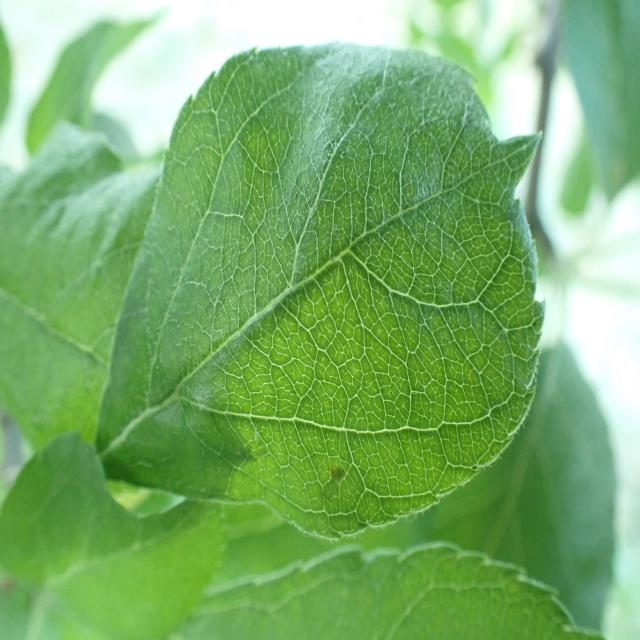healthy: (94, 42, 546, 540), (0, 121, 165, 455), (172, 541, 606, 639)
